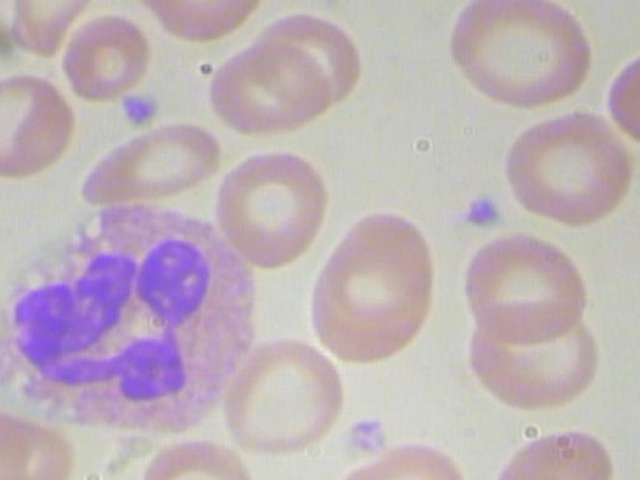Platelets: (337, 414, 398, 462), (452, 189, 507, 237), (120, 88, 167, 130), (310, 0, 358, 11)
RBC: (301, 209, 443, 368), (497, 106, 640, 230), (211, 143, 334, 271), (222, 332, 347, 457), (449, 0, 595, 107), (458, 230, 595, 342), (463, 298, 600, 410), (79, 115, 227, 211), (209, 31, 336, 134), (58, 11, 150, 112), (0, 72, 77, 179), (134, 0, 268, 47), (0, 0, 98, 63), (0, 0, 2, 94)
WBC: (0, 191, 275, 444)
